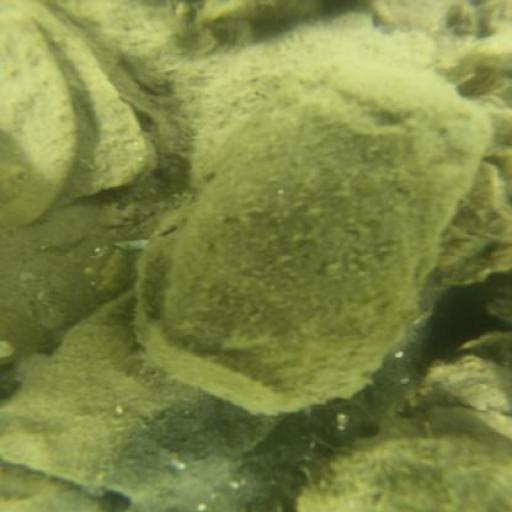Oyster-Closed: (5, 293, 284, 507), (1, 1, 153, 204), (302, 404, 512, 512), (1, 3, 78, 227)
Oyster-Open: (128, 53, 498, 413)
